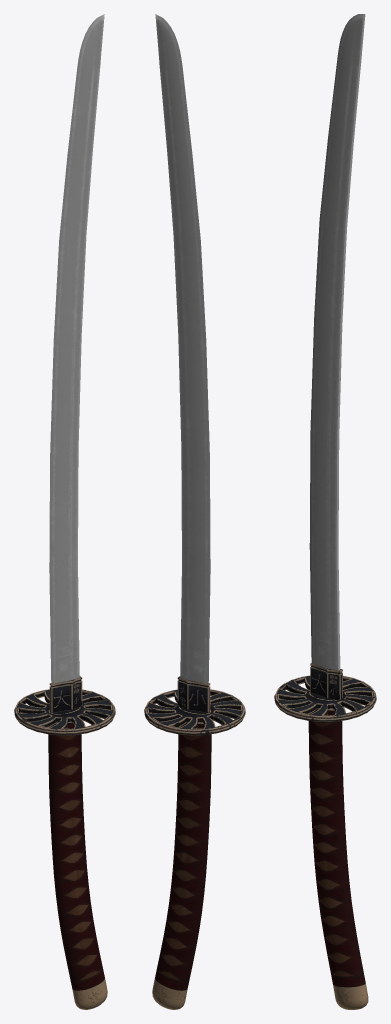
File: antique_katana_01.gltf
The picture shows the model from 3 angles, left to right: view 1: azimuth 30°, elevation 25°; view 2: azimuth 150°, elevation 25°; view 3: azimuth 330°, elevation 25°; orthographic projection.
Parts seen in each view (by area): view 1: antique_katana_01; view 2: antique_katana_01; view 3: antique_katana_01.
Part boxes in pixels (left/top/right/bottom): antique_katana_01: left=14, top=14, right=115, bottom=1009; antique_katana_01: left=144, top=14, right=245, bottom=1009; antique_katana_01: left=274, top=14, right=376, bottom=1009.
Size of the model in its own units: 0.0934 by 1 by 0.0934.
Materials: 1 (1 with a texture image).
